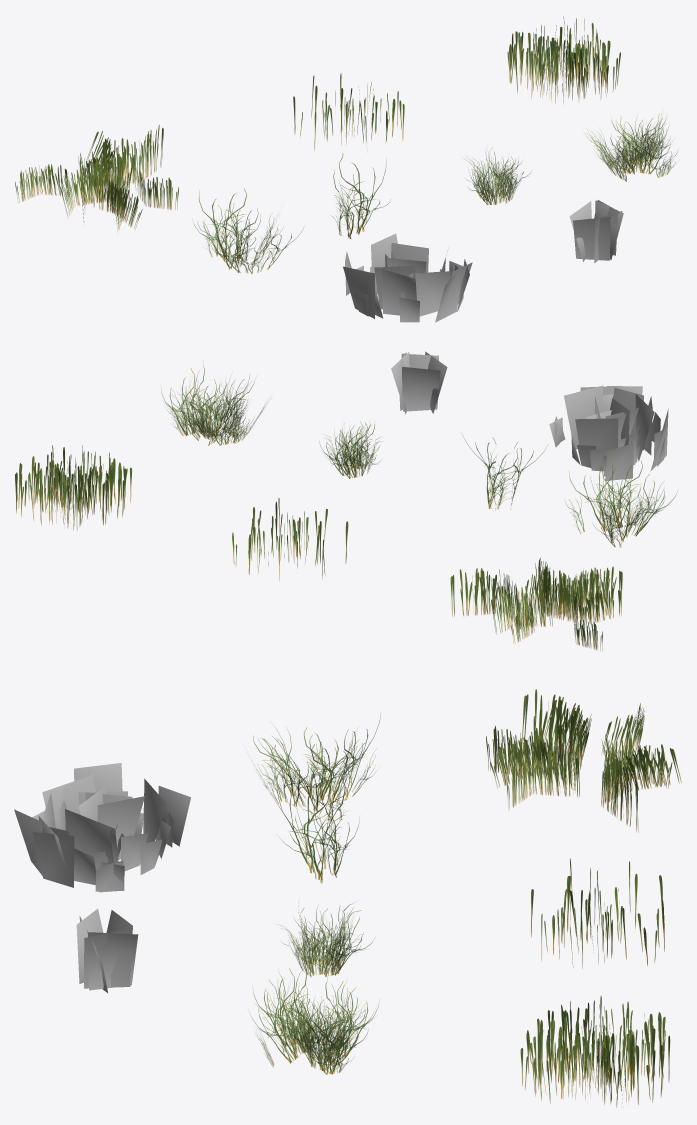
3 views of the same model, one above another, from view 1: azimuth 30°, elevation 25°; view 2: azimuth 150°, elevation 25°; view 3: azimuth 270°, elevation 25° (orthographic). The views are drawn at different scales.
Visible parts, largest first — view 1: Grass_B_Low_Dense_4, Wheat_Grass_LowPoly_0, Wheat_Grass_High_Dense_1, Grass_jumbled_Low_Dense_1_7, Grass_B_Low_Small_3, Grass_jumbled_Low_Spread_8, Wheat_Grass_High_Spread_2, Grass_Jumbled_Low_Dense_5, Grass_jumbled_Low_Spread_1_6; view 2: Grass_B_Low_Dense_4, Wheat_Grass_LowPoly_0, Wheat_Grass_High_Dense_1, Grass_jumbled_Low_Dense_1_7, Grass_jumbled_Low_Spread_8, Grass_B_Low_Small_3, Wheat_Grass_High_Spread_2, Grass_Jumbled_Low_Dense_5, Grass_jumbled_Low_Spread_1_6; view 3: Grass_B_Low_Dense_4, Wheat_Grass_LowPoly_0, Wheat_Grass_High_Dense_1, Grass_jumbled_Low_Dense_1_7, Grass_B_Low_Small_3, Grass_jumbled_Low_Spread_8, Wheat_Grass_High_Spread_2, Grass_Jumbled_Low_Dense_5, Grass_jumbled_Low_Spread_1_6.
Boxes of the visible parts, bbox=[...] form: Grass_B_Low_Dense_4: bbox=[343, 233, 472, 322]; Wheat_Grass_LowPoly_0: bbox=[15, 124, 178, 230]; Wheat_Grass_High_Dense_1: bbox=[507, 16, 620, 102]; Grass_jumbled_Low_Dense_1_7: bbox=[585, 113, 677, 181]; Grass_B_Low_Small_3: bbox=[569, 200, 623, 262]; Grass_jumbled_Low_Spread_8: bbox=[192, 188, 303, 273]; Wheat_Grass_High_Spread_2: bbox=[293, 73, 404, 150]; Grass_Jumbled_Low_Dense_5: bbox=[465, 147, 531, 204]; Grass_jumbled_Low_Spread_1_6: bbox=[332, 153, 390, 238]; Grass_B_Low_Dense_4: bbox=[549, 385, 668, 480]; Wheat_Grass_LowPoly_0: bbox=[450, 557, 622, 650]; Wheat_Grass_High_Dense_1: bbox=[15, 445, 131, 530]; Grass_jumbled_Low_Dense_1_7: bbox=[161, 363, 264, 445]; Grass_jumbled_Low_Spread_8: bbox=[564, 459, 678, 547]; Grass_B_Low_Small_3: bbox=[391, 351, 447, 414]; Wheat_Grass_High_Spread_2: bbox=[232, 498, 348, 581]; Grass_Jumbled_Low_Dense_5: bbox=[320, 421, 382, 478]; Grass_jumbled_Low_Spread_1_6: bbox=[462, 434, 548, 509]; Grass_B_Low_Dense_4: bbox=[14, 763, 190, 892]; Wheat_Grass_LowPoly_0: bbox=[486, 689, 681, 832]; Wheat_Grass_High_Dense_1: bbox=[520, 996, 670, 1107]; Grass_jumbled_Low_Dense_1_7: bbox=[249, 961, 379, 1074]; Grass_B_Low_Small_3: bbox=[76, 909, 138, 992]; Grass_jumbled_Low_Spread_8: bbox=[251, 714, 380, 820]; Wheat_Grass_High_Spread_2: bbox=[531, 858, 664, 968]; Grass_Jumbled_Low_Dense_5: bbox=[280, 902, 375, 977]; Grass_jumbled_Low_Spread_1_6: bbox=[276, 772, 359, 883].
Bounding box in the file's own units: 2.9 × 0.4033 × 2.18.
